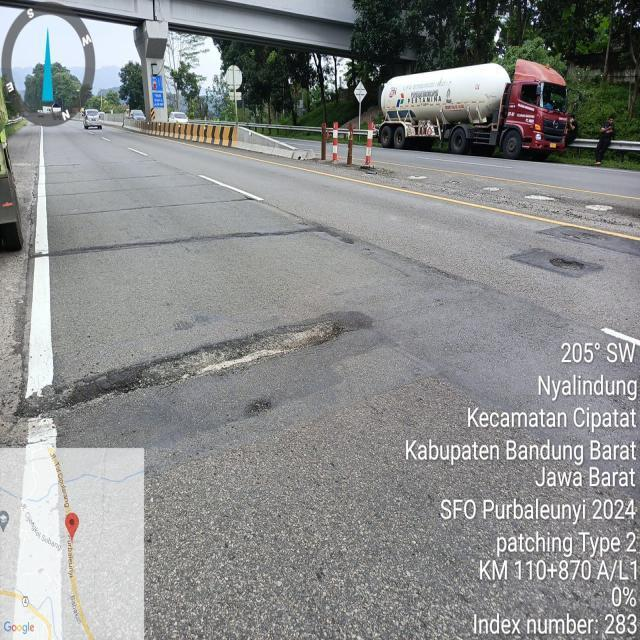Buraco: (112, 318, 359, 397), (556, 230, 610, 243), (547, 256, 587, 272)
